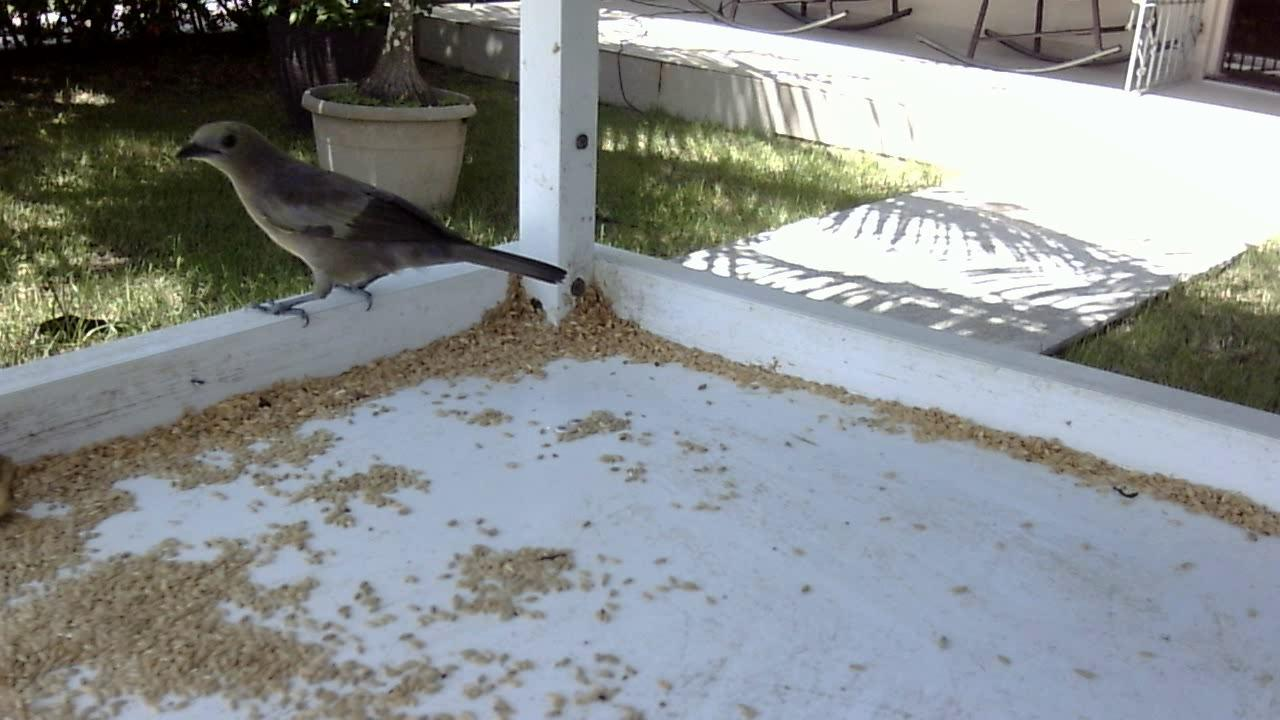sanhaco_do_coqueiro: (176, 124, 567, 324)
